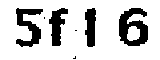5: (11, 4, 46, 49)
6: (113, 5, 152, 54)
I: (80, 3, 101, 55)
f: (47, 6, 72, 48)
